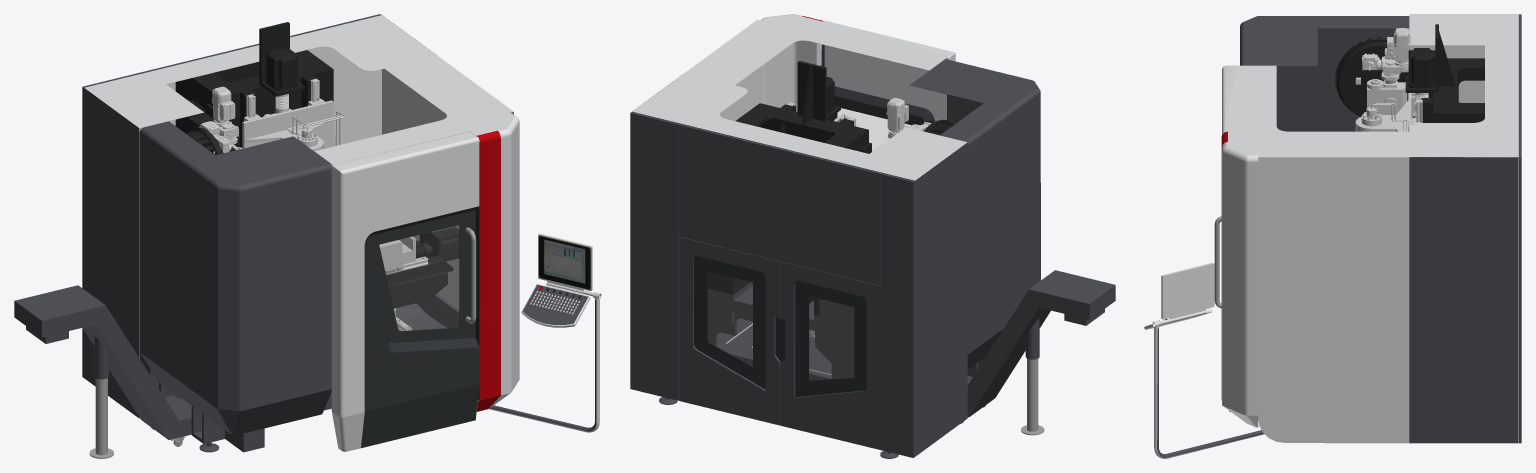
File: cnc_machine-transformed.glb
3 renders of one model, left to right at view 1: azimuth 30°, elevation 25°; view 2: azimuth 150°, elevation 25°; view 3: azimuth 270°, elevation 25°, orthographic. The views are drawn at different scales.
Parts seen in each view (by area): view 1: Object_5, Object_302, Object_322; view 2: Object_5, Object_302; view 3: Object_5.
Part boxes in pixels (box(x1,y1,x2,y2)): Object_5: box(14, 14, 601, 458); Object_302: box(380, 226, 458, 330); Object_322: box(539, 235, 590, 289); Object_5: box(630, 14, 1115, 458); Object_302: box(708, 108, 910, 379); Object_5: box(1144, 14, 1521, 458).
Size of the model in its own units: 4.33 by 3.21 by 3.12.
3 materials, 3 textured.
